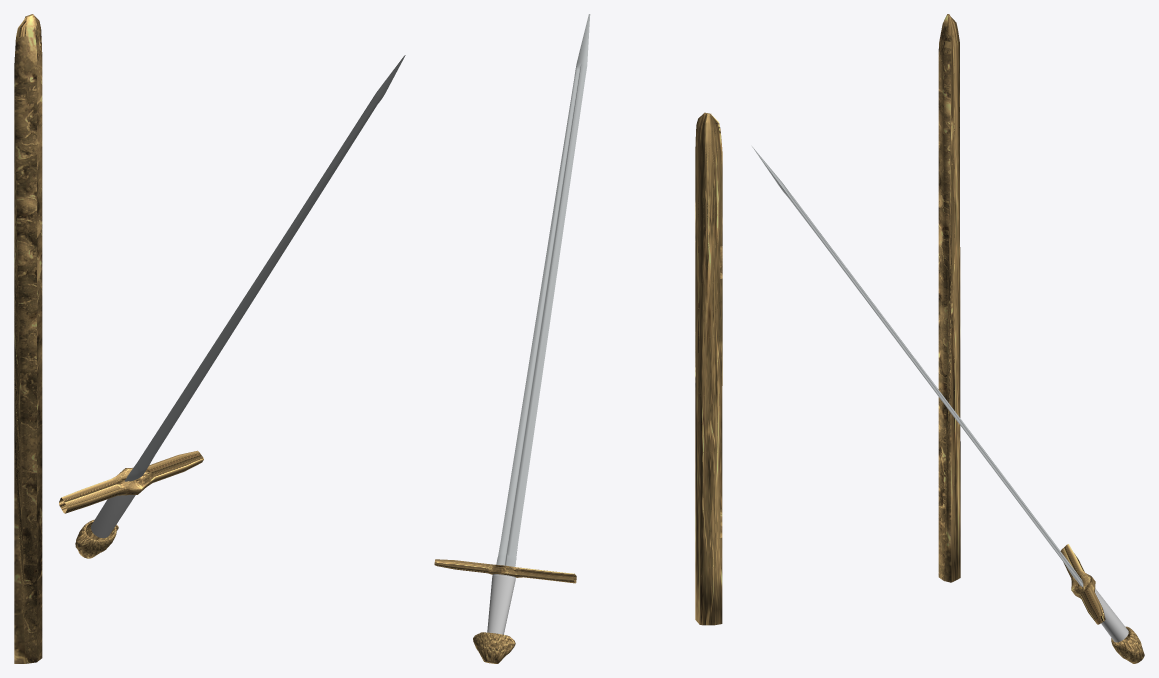
File: sword.obj
3 renders of one model, left to right at view 1: azimuth 30°, elevation 25°; view 2: azimuth 150°, elevation 25°; view 3: azimuth 270°, elevation 25°, orthographic. The views are drawn at different scales.
Visible parts, largest first — view 1: Cube_Cube.003, Mesh_(2)_Mesh.004_Mesh_(2)_Mesh.010, Mesh_(2)_Mesh.003_Mesh_(2)_Mesh.009, Mesh_(2)_Mesh.002_Mesh_(2)_Mesh.008, Mesh_(2)_Mesh.001_Mesh_(2)_Mesh.007; view 2: Cube_Cube.003, Mesh_(2)_Mesh.004_Mesh_(2)_Mesh.010, Mesh_(2)_Mesh.003_Mesh_(2)_Mesh.009, Mesh_(2)_Mesh.002_Mesh_(2)_Mesh.008, Mesh_(2)_Mesh.001_Mesh_(2)_Mesh.007; view 3: Cube_Cube.003, Mesh_(2)_Mesh.004_Mesh_(2)_Mesh.010, Mesh_(2)_Mesh.003_Mesh_(2)_Mesh.009, Mesh_(2)_Mesh.001_Mesh_(2)_Mesh.007, Mesh_(2)_Mesh.002_Mesh_(2)_Mesh.008.
Boxes of the visible parts, left/top/right/bottom form: Cube_Cube.003: left=14, top=14, right=42, bottom=663; Mesh_(2)_Mesh.004_Mesh_(2)_Mesh.010: left=124, top=55, right=405, bottom=481; Mesh_(2)_Mesh.003_Mesh_(2)_Mesh.009: left=59, top=450, right=203, bottom=513; Mesh_(2)_Mesh.002_Mesh_(2)_Mesh.008: left=91, top=495, right=135, bottom=538; Mesh_(2)_Mesh.001_Mesh_(2)_Mesh.007: left=75, top=519, right=118, bottom=558; Cube_Cube.003: left=695, top=112, right=722, bottom=625; Mesh_(2)_Mesh.004_Mesh_(2)_Mesh.010: left=496, top=14, right=590, bottom=566; Mesh_(2)_Mesh.003_Mesh_(2)_Mesh.009: left=434, top=559, right=576, bottom=583; Mesh_(2)_Mesh.002_Mesh_(2)_Mesh.008: left=487, top=574, right=515, bottom=634; Mesh_(2)_Mesh.001_Mesh_(2)_Mesh.007: left=473, top=632, right=515, bottom=663; Cube_Cube.003: left=938, top=14, right=960, bottom=582; Mesh_(2)_Mesh.004_Mesh_(2)_Mesh.010: left=752, top=146, right=1083, bottom=587; Mesh_(2)_Mesh.003_Mesh_(2)_Mesh.009: left=1060, top=544, right=1105, bottom=624; Mesh_(2)_Mesh.001_Mesh_(2)_Mesh.007: left=1111, top=626, right=1144, bottom=663; Mesh_(2)_Mesh.002_Mesh_(2)_Mesh.008: left=1095, top=588, right=1128, bottom=642.
Size of the model in its own units: 6.97 by 15.67 by 9.7.
